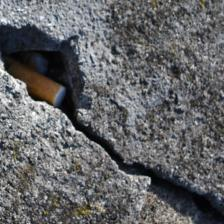Crack: (95, 39, 192, 139), (55, 16, 167, 75)
